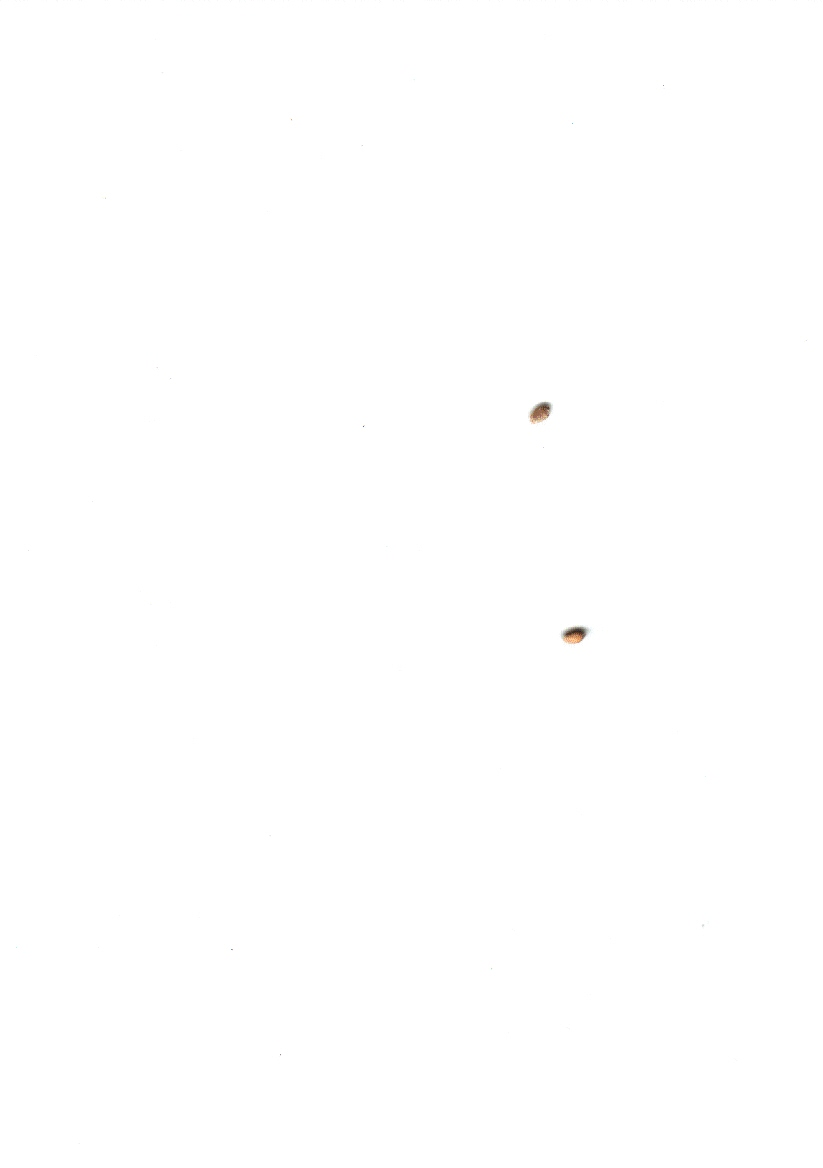grains: (516, 388, 571, 440), (551, 612, 594, 658)
